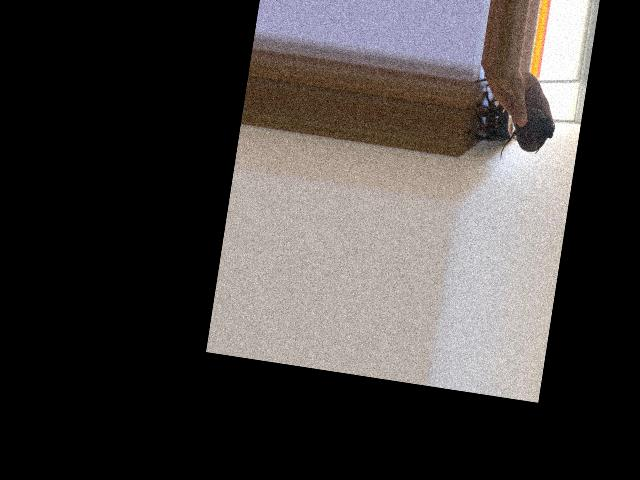beet: (499, 104, 557, 167)
